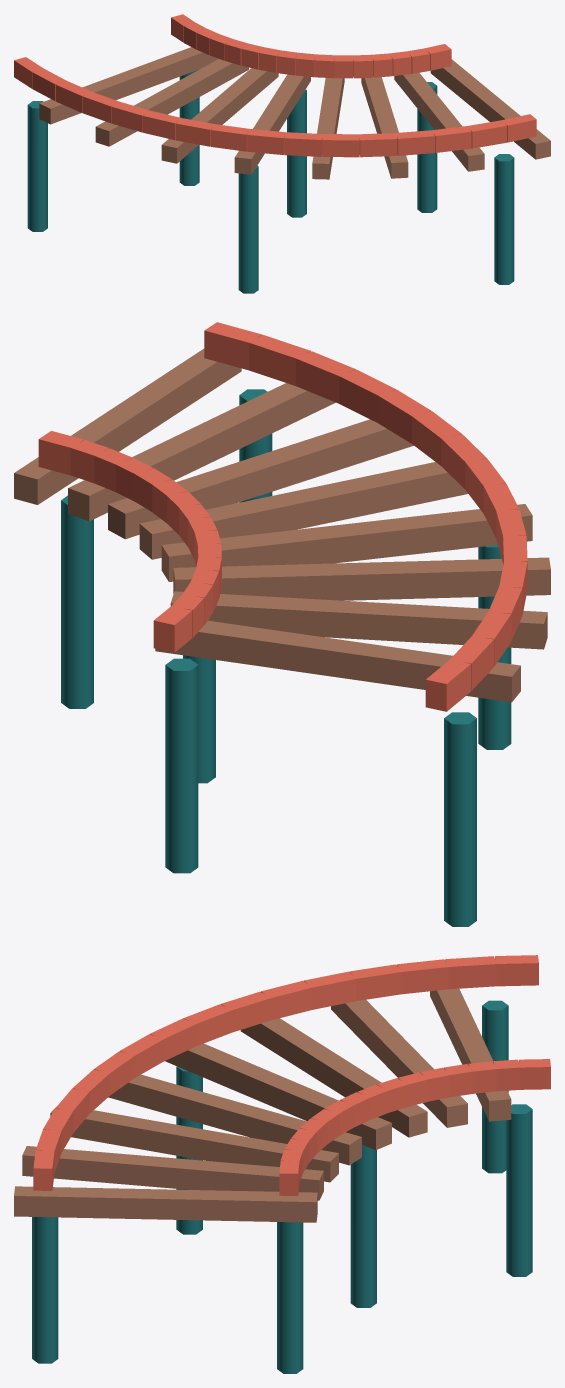
Rendered from track_turn_right.glb.
The picture shows the model from 3 angles, top to bottom: view 1: azimuth 30°, elevation 25°; view 2: azimuth 150°, elevation 25°; view 3: azimuth 270°, elevation 25°; orthographic projection. The views are drawn at different scales.
Visible parts, largest first — view 1: track_turn_right; view 2: track_turn_right; view 3: track_turn_right.
Boxes of the visible parts, left/top/right/bottom form: track_turn_right: left=14, top=14, right=550, bottom=293; track_turn_right: left=14, top=322, right=550, bottom=926; track_turn_right: left=14, top=955, right=550, bottom=1373.
Bounding box in the file's own units: 2.86 × 1.22 × 2.84.
